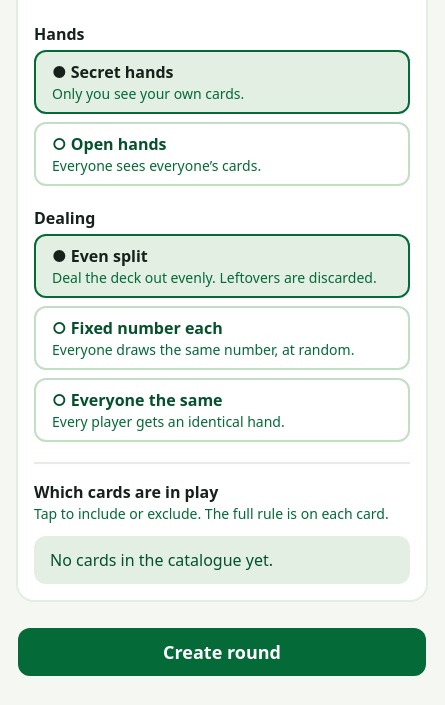
Test: CreateRoundScreen › explains a failure and does not pretend a round exists
(page scrolled)
Click the button "Create round". click: x=222, y=652
box: [18,628,426,676]
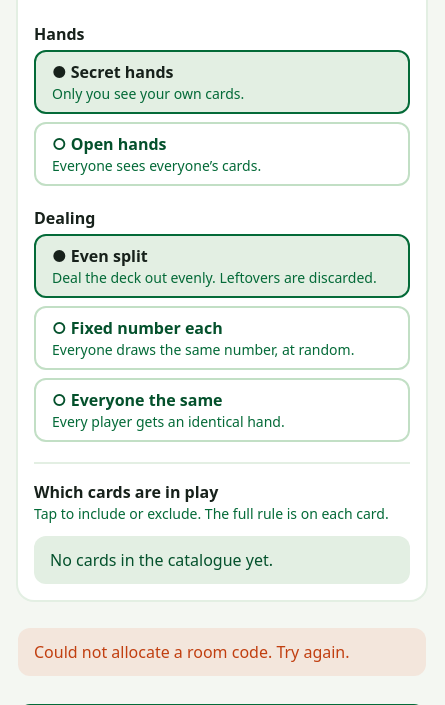
Check: the message shows "Could not allocate a room code.", box [34,641,350,663]
